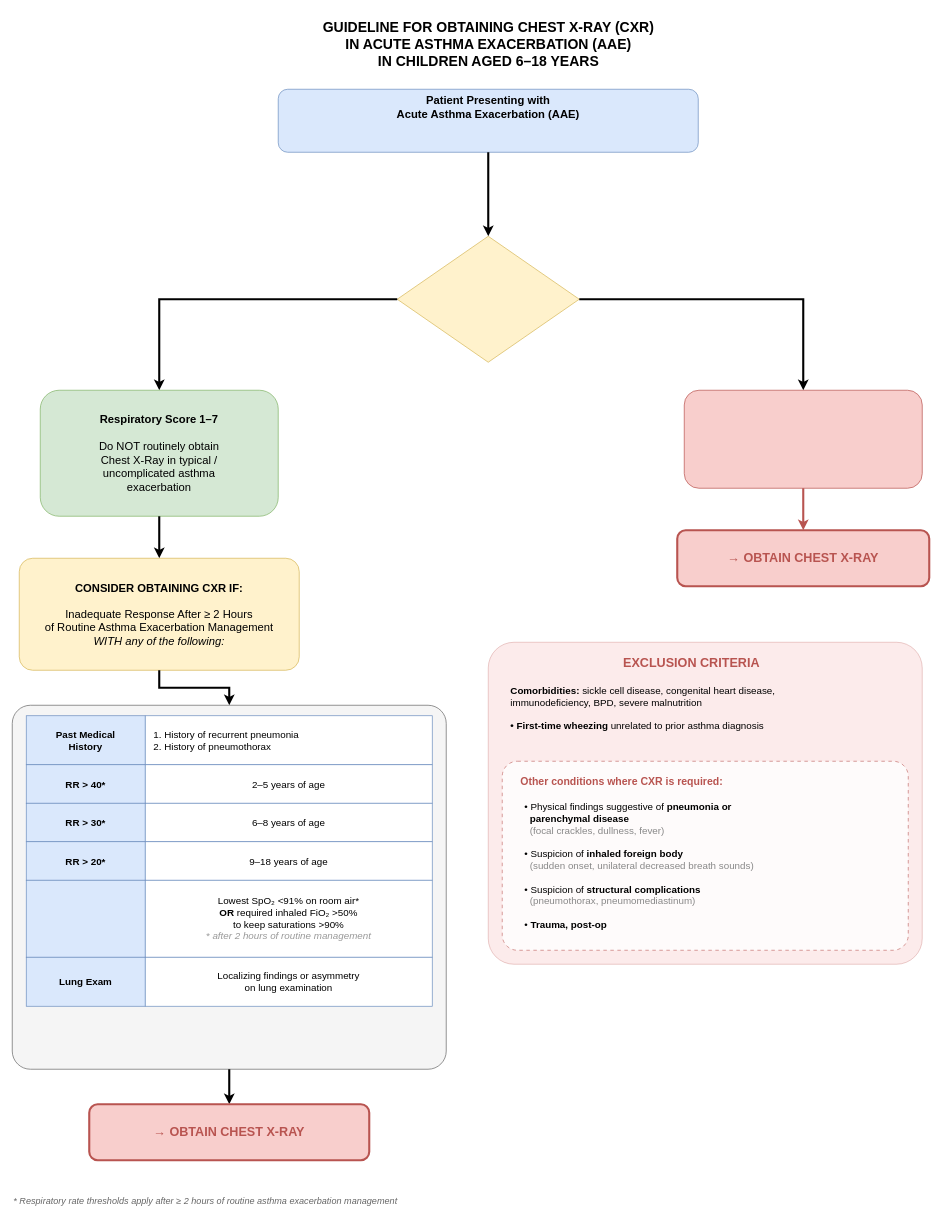
The diagram is 942 pixels wide and 1224 high, and some of its shapes have lost their labels. Here are the shapes that lost their labels. From the top down, the centre of each, then its label:
At point 488,299: "Assess Respiratory Score (RS)".
At point 803,439: "Respiratory Score 8–12 Severe Respiratory Distress".
At point 85,918: "Pulse Oximetry".
